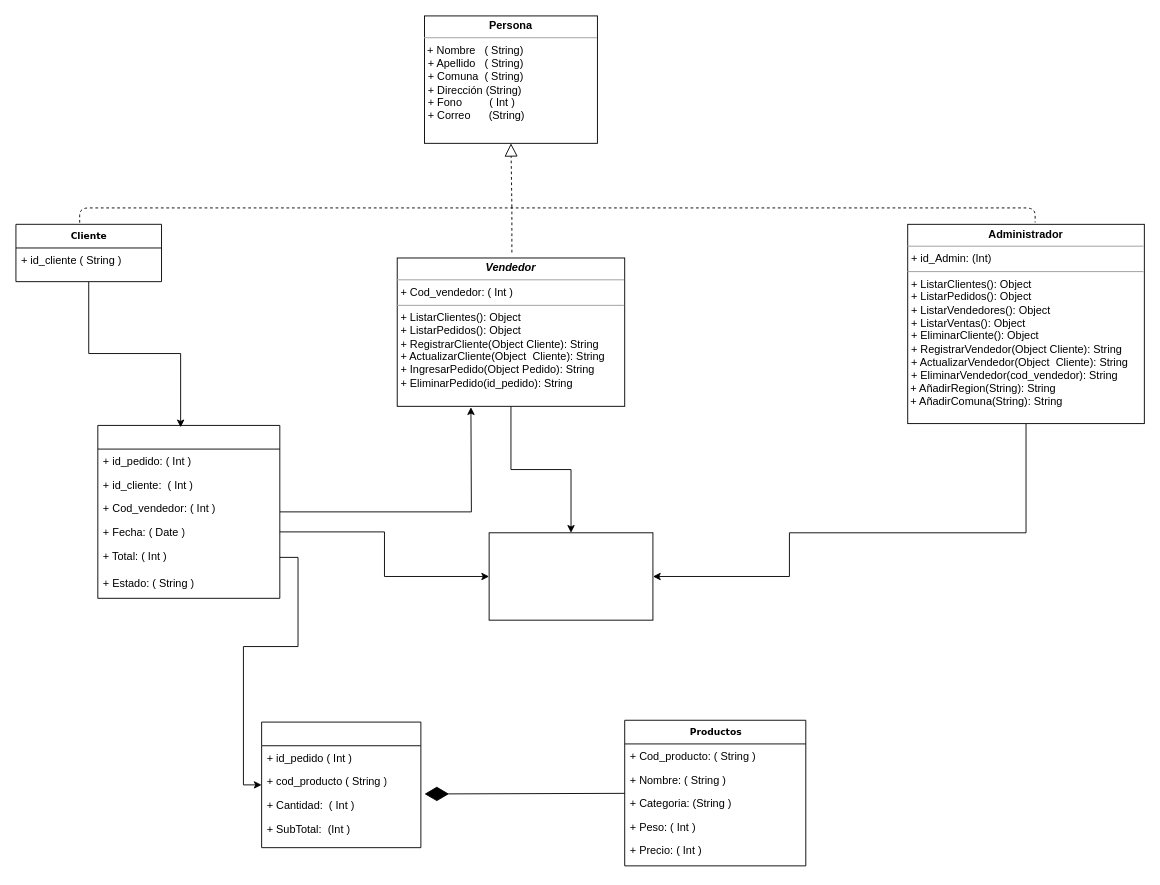
Image size: 1160x885. Some labels were removed from this diagram. The box of each missing label's shape, as (x1, y1, x2, y2) in pixels:
Detalle_pedido: (261, 721, 421, 848)
Pedido s: (97, 425, 280, 598)
Ventas + id_venta: ( Int ) + id_pedido: ( Int ) + Fecha: ( Date ): (488, 532, 653, 620)
